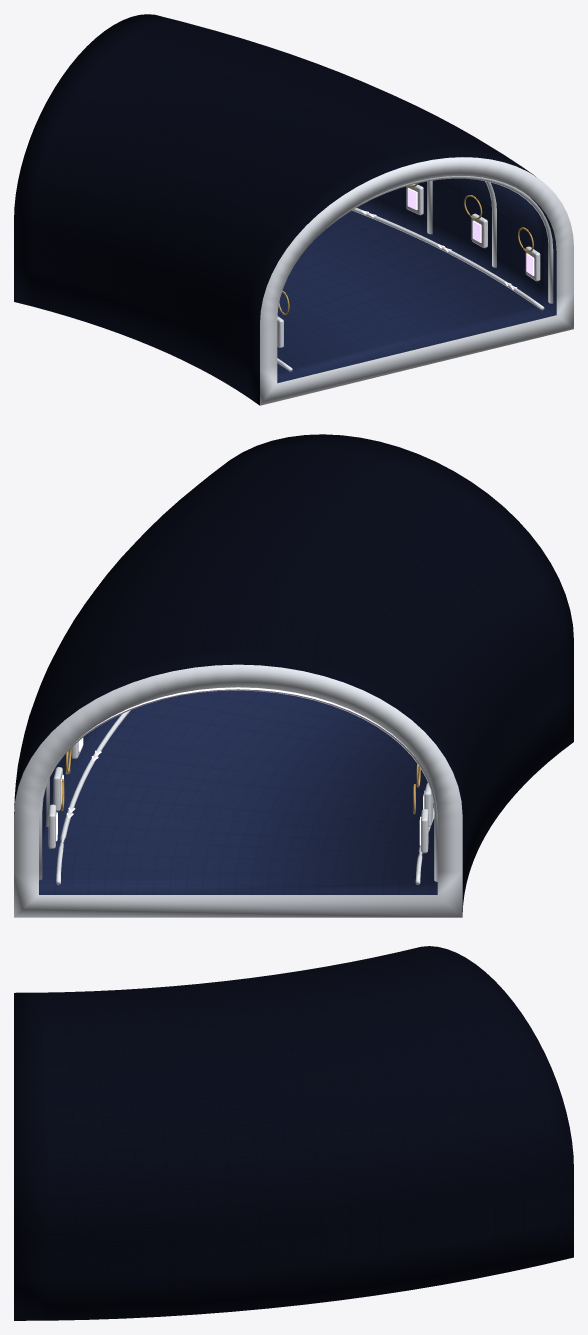
The model's file is curve_left_30.glb.
The picture shows the model from 3 angles, top to bottom: view 1: azimuth 30°, elevation 25°; view 2: azimuth 150°, elevation 25°; view 3: azimuth 270°, elevation 25°; orthographic projection. The views are drawn at different scales.
Visible parts, largest first — view 1: TunnelGeometry; view 2: TunnelGeometry; view 3: TunnelGeometry.
Boxes of the visible parts, x1,y1,x2,y2 form: TunnelGeometry: (14, 14, 573, 405); TunnelGeometry: (14, 434, 573, 917); TunnelGeometry: (14, 946, 573, 1320).
Size of the model in its own units: 19.1 by 9.52 by 21.83.
5 materials, 2 textured.
